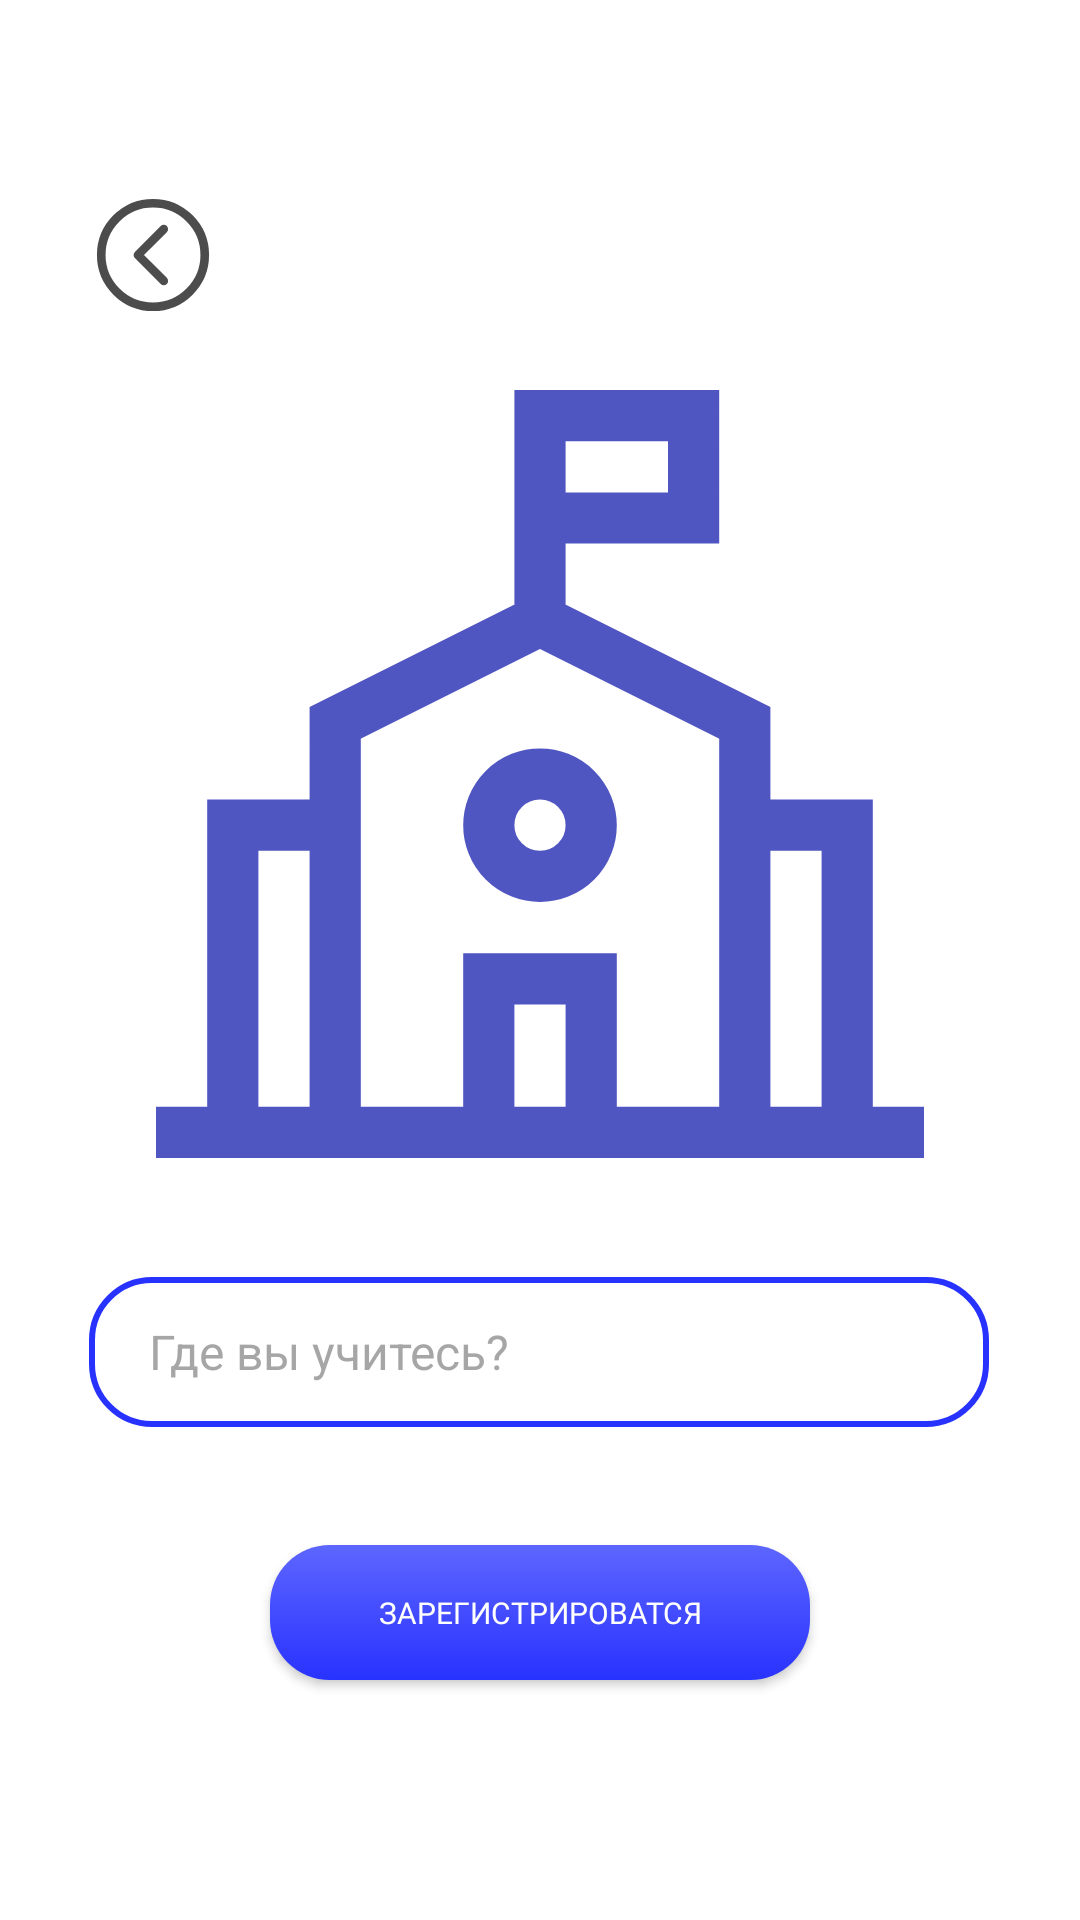

Where to tap for icons on this 1080w x 1920h app screen, as (x=x, y=y):
back arrow: (x=153, y=255)
